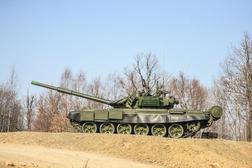t72: (29, 78, 219, 135)
